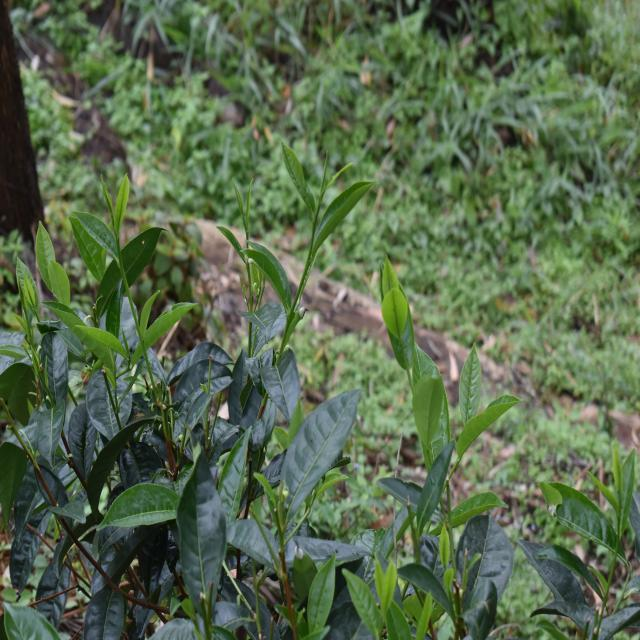Stem: (313, 220, 316, 226), (116, 240, 119, 245), (247, 263, 249, 267)
